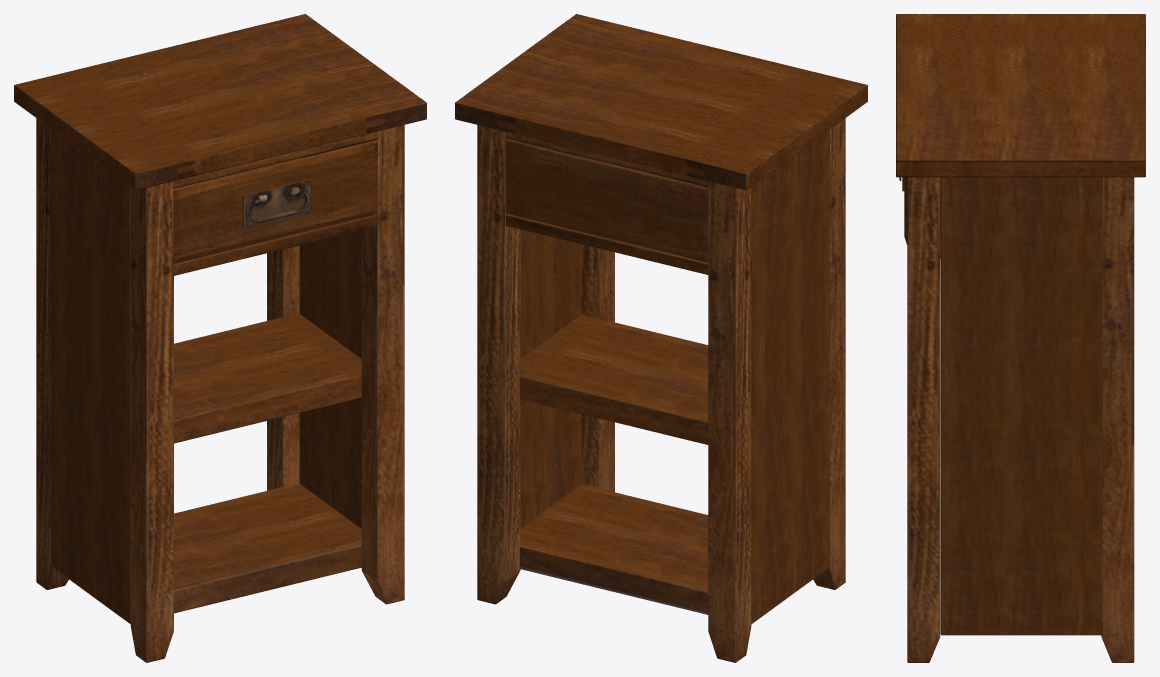
File: stand.fbx
3 views of the same model, side by side, from view 1: azimuth 30°, elevation 25°; view 2: azimuth 150°, elevation 25°; view 3: azimuth 270°, elevation 25° (orthographic). The views are drawn at different scales.
Parts seen in each view (by area): view 1: hall_stand, box, handel; view 2: hall_stand, box; view 3: hall_stand.
Boxes of the visible parts, box(x1,y1,x2,y2) form: hall_stand: box(14, 14, 426, 662); box: box(173, 139, 377, 263); handel: box(242, 178, 311, 229); hall_stand: box(455, 14, 867, 662); box: box(505, 138, 708, 262); hall_stand: box(896, 14, 1145, 662).
Size of the model in its own units: 49.18 by 80.11 by 35.47.
